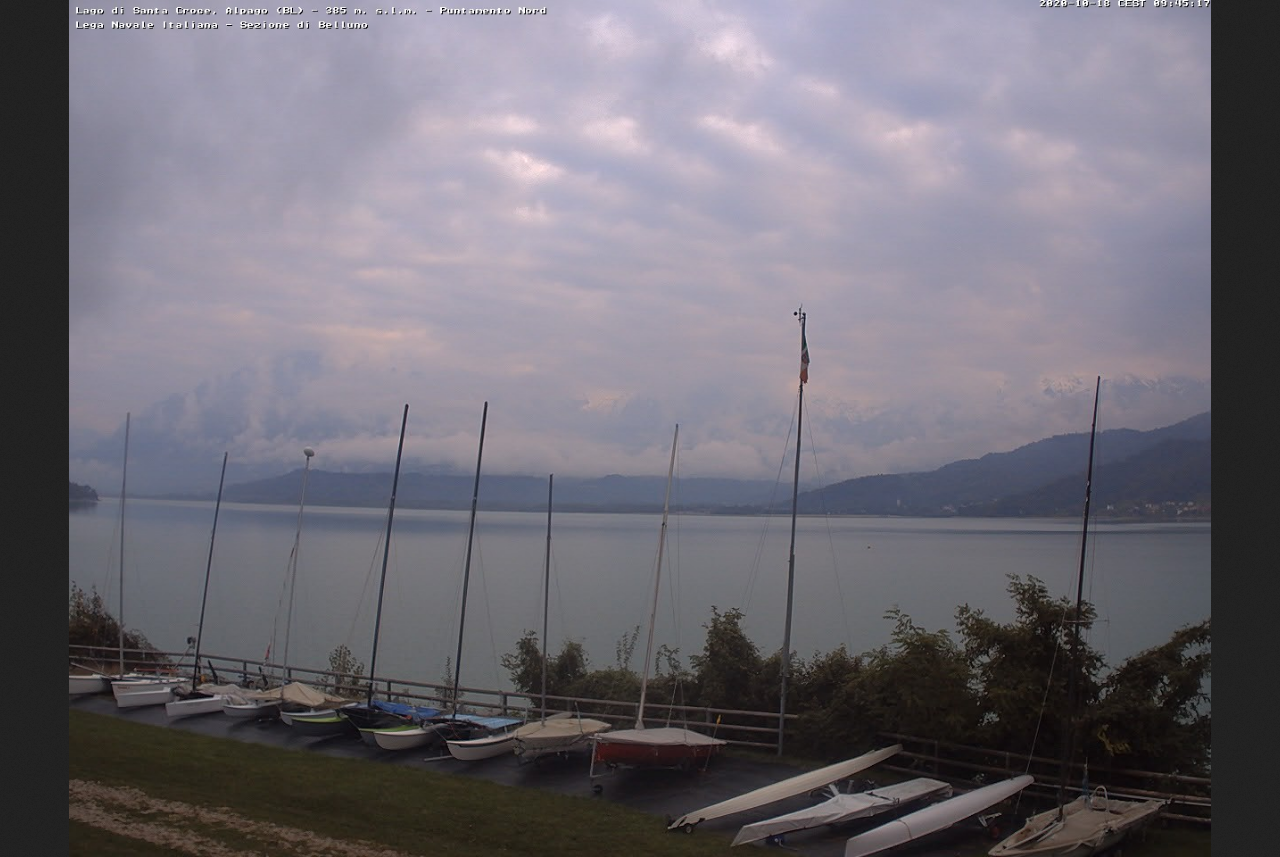no: (797, 318, 810, 385)
